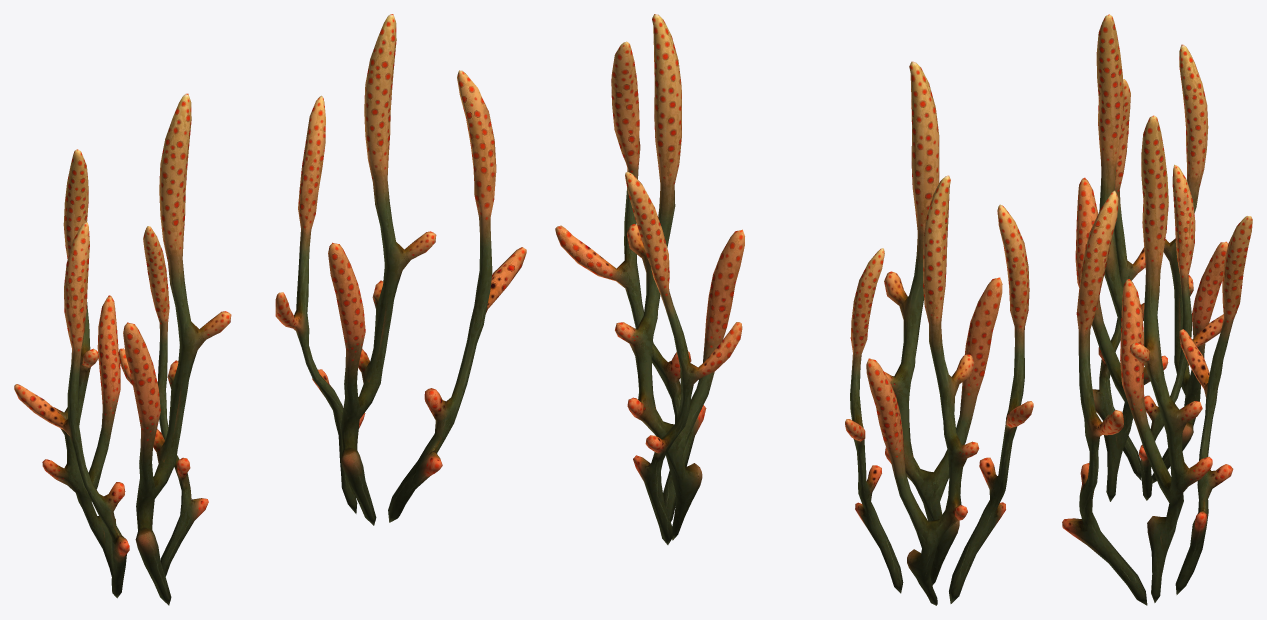
The model's file is bulbous_poreleaf.glb.
3 views of the same model, side by side, from view 1: azimuth 30°, elevation 25°; view 2: azimuth 150°, elevation 25°; view 3: azimuth 270°, elevation 25° (orthographic). The views are drawn at different scales.
Visible parts, largest first — view 1: deeplilypads_flower_03_group_a_LOD0, deeplilypads_flower_03_group_b_LOD0; view 2: deeplilypads_flower_03_group_a_LOD0, deeplilypads_flower_03_group_b_LOD0; view 3: deeplilypads_flower_03_group_b_LOD0, deeplilypads_flower_03_group_a_LOD0.
Part boxes in pixels (x1=…): deeplilypads_flower_03_group_a_LOD0: x1=14, y1=93, x2=231, y2=605; deeplilypads_flower_03_group_b_LOD0: x1=275, y1=14, x2=526, y2=525; deeplilypads_flower_03_group_a_LOD0: x1=845, y1=61, x2=1033, y2=605; deeplilypads_flower_03_group_b_LOD0: x1=555, y1=14, x2=744, y2=544; deeplilypads_flower_03_group_b_LOD0: x1=1062, y1=115, x2=1252, y2=605; deeplilypads_flower_03_group_a_LOD0: x1=1075, y1=14, x2=1236, y2=501.
Bounding box in the file's own units: 0.0378 × 0.0382 × 0.0131.
Materials: 1 (1 with a texture image).
